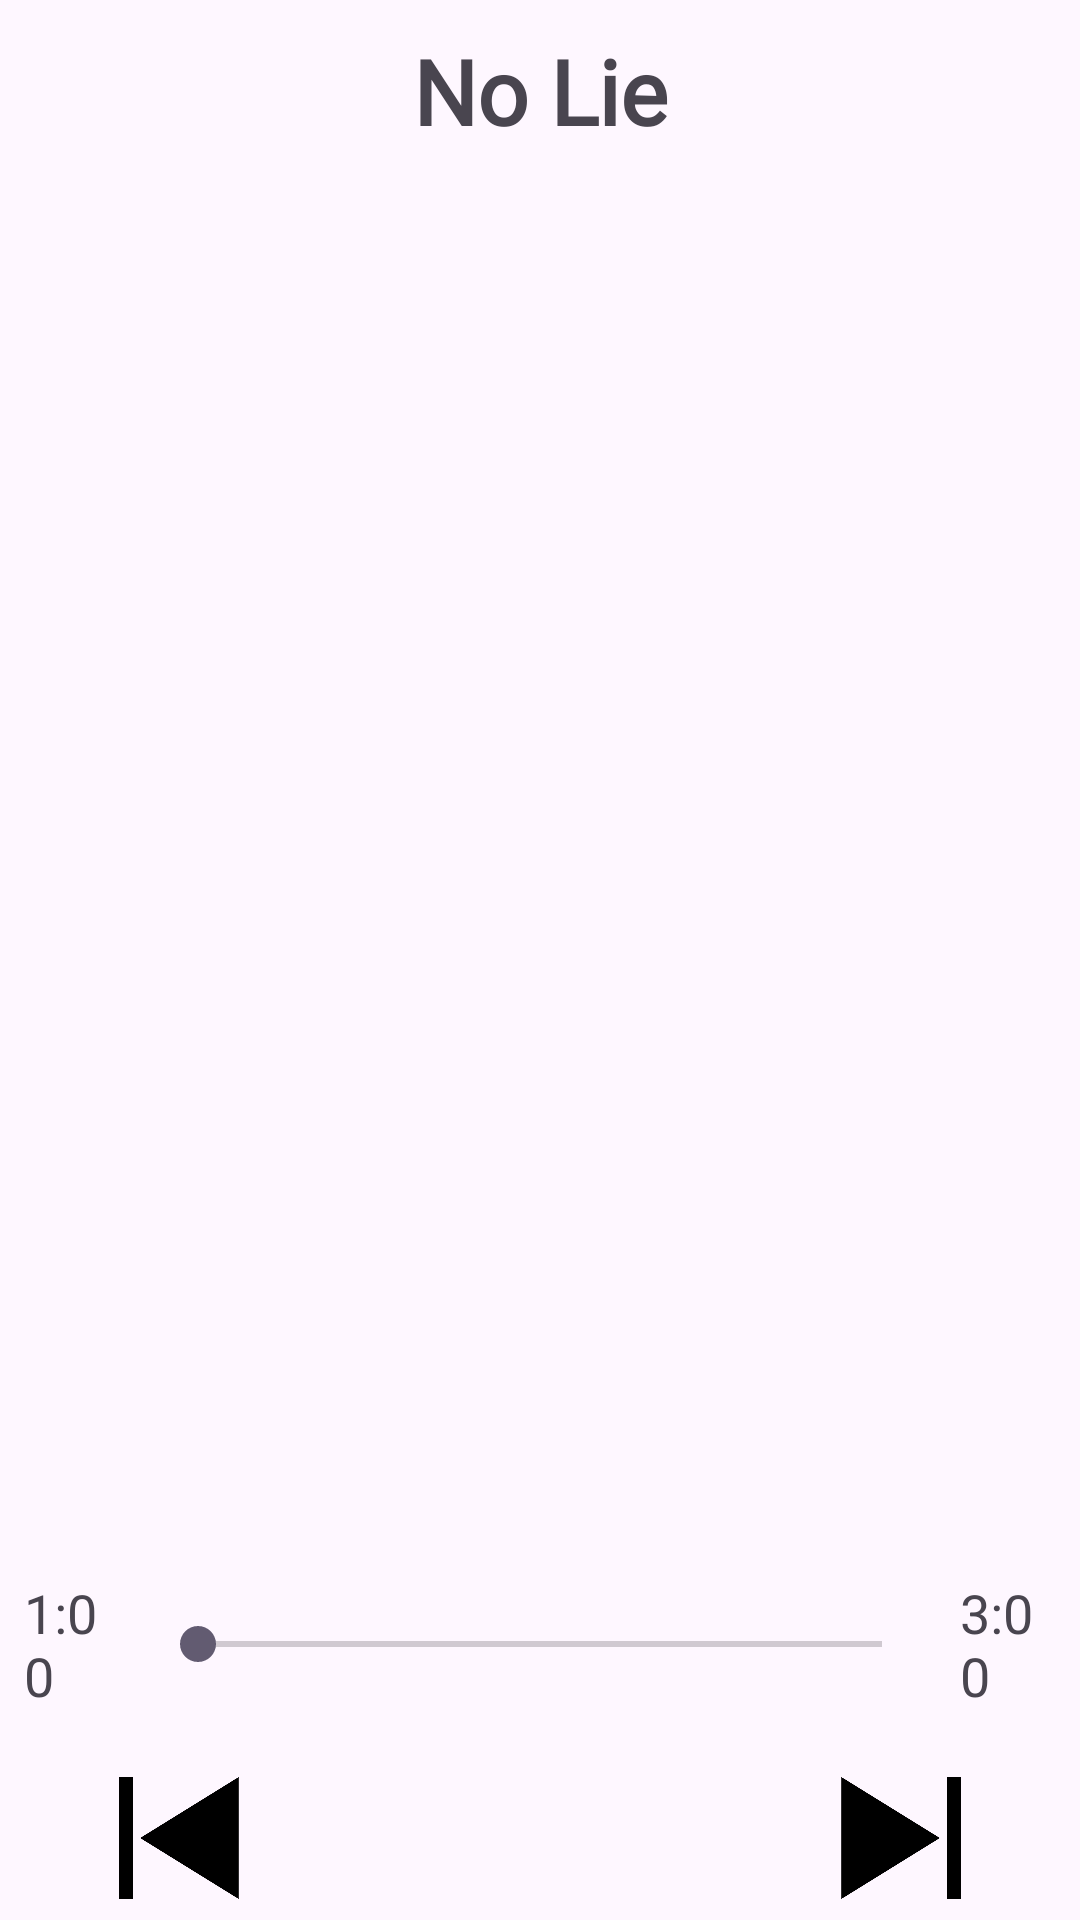

Screen size 1080px×1920px. Icon name, then its box in pixels as [x1, y1, x2, y2]:
next: [841, 1777, 961, 1899]
previous: [119, 1777, 239, 1899]
